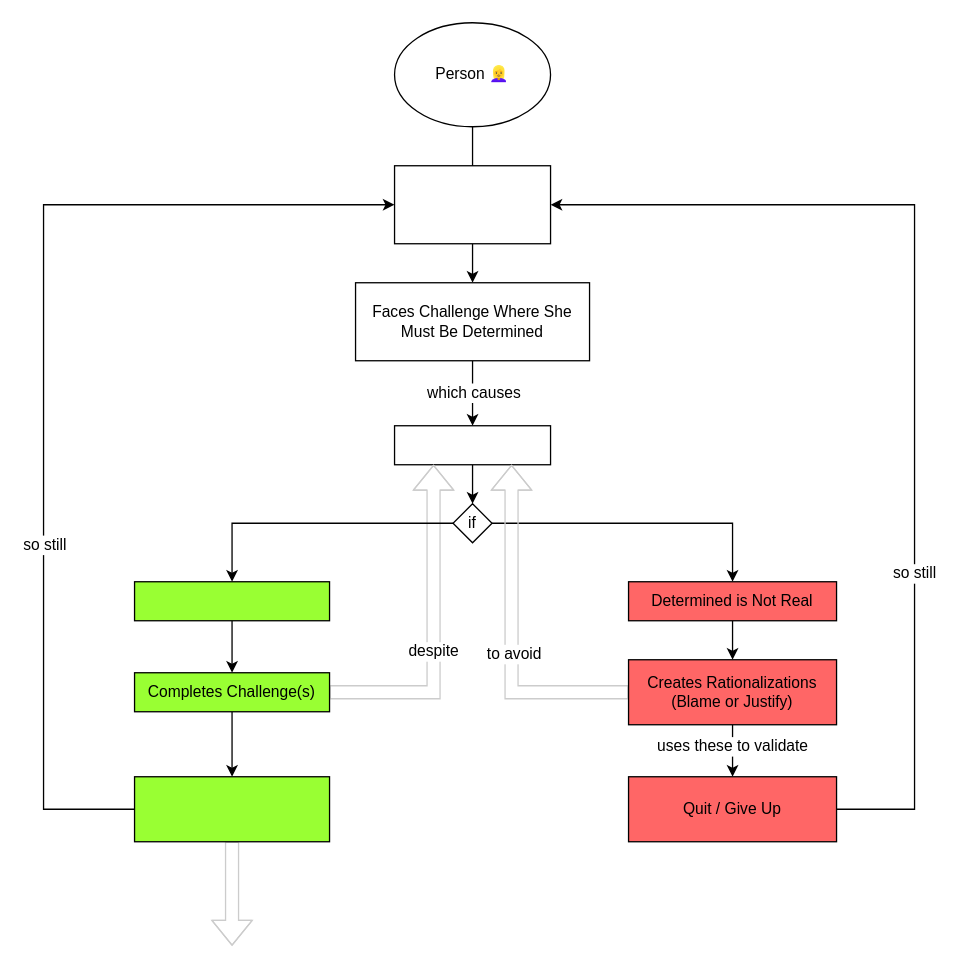
This 958x968 diagram has some shape labels left out. The shapes that lost their labels are listed below. From the top down, each one's centre as x and y in pixels, then its label:
At (472,204): "Believes She is Determined 💪".
At (472,444): "Pain or Discomfort".
At (231,600): "Determination is Real".
At (231,808): "Continues to Next Challenge".
